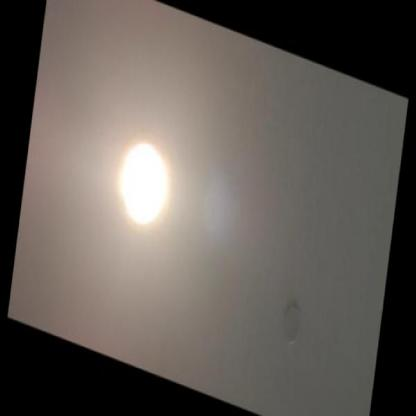light_on: (98, 88, 191, 257)
